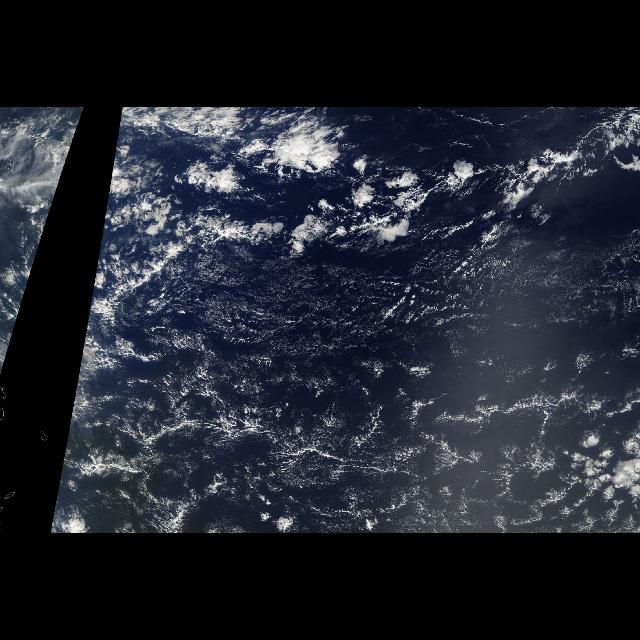Flower: (580, 436, 640, 506)
Sugar: (138, 242, 636, 508)
